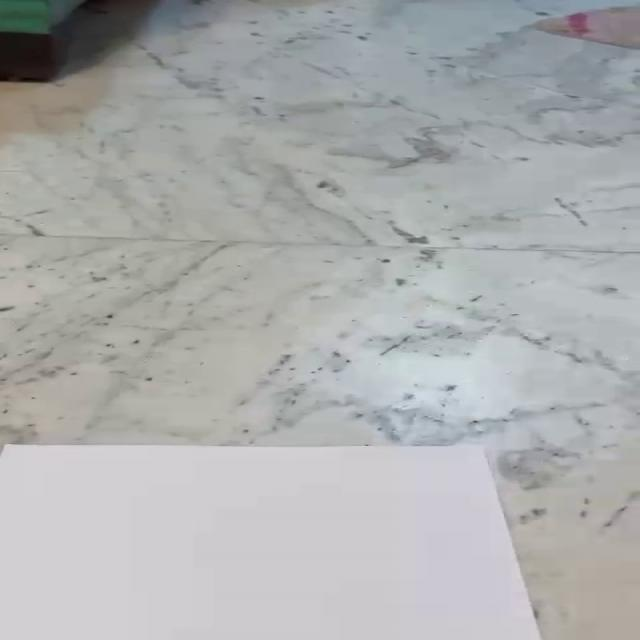road: (0, 445, 543, 640)
